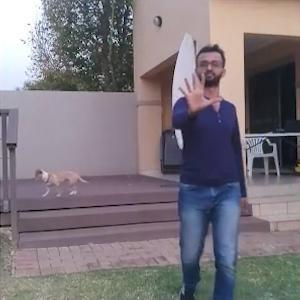follow_hand: (174, 63, 223, 113)
